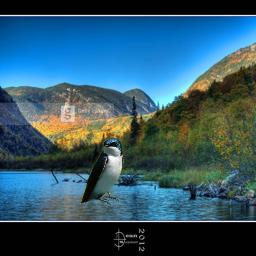Swallow: (81, 137, 125, 206)
